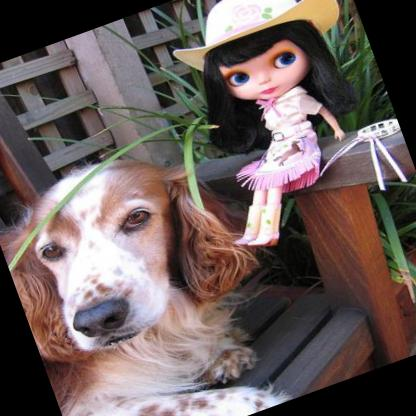Welsh_springer_spaniel: (0, 118, 307, 416)
